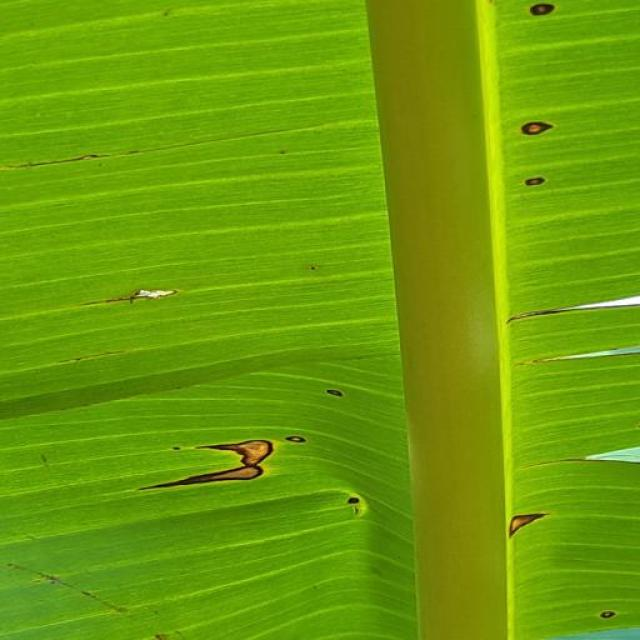Early_rust: (142, 376, 376, 532), (469, 105, 573, 201), (88, 273, 210, 342), (488, 496, 566, 558), (506, 0, 570, 51)
